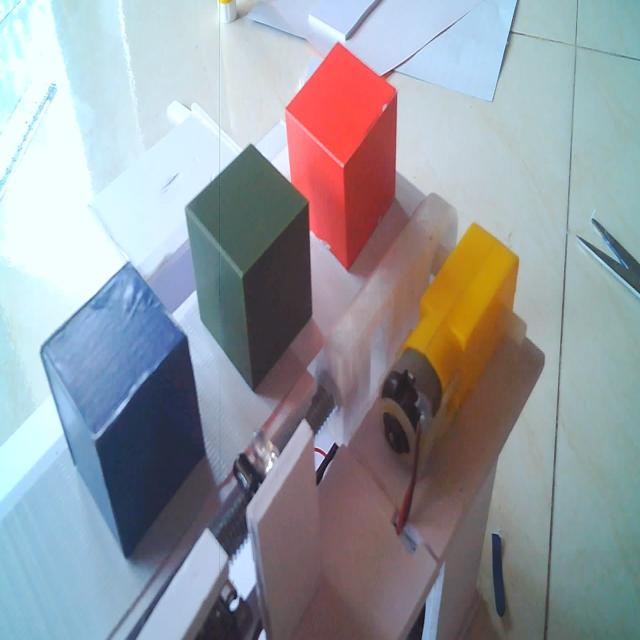blue: (37, 258, 209, 560)
green: (182, 140, 316, 398)
red: (280, 38, 403, 277)
